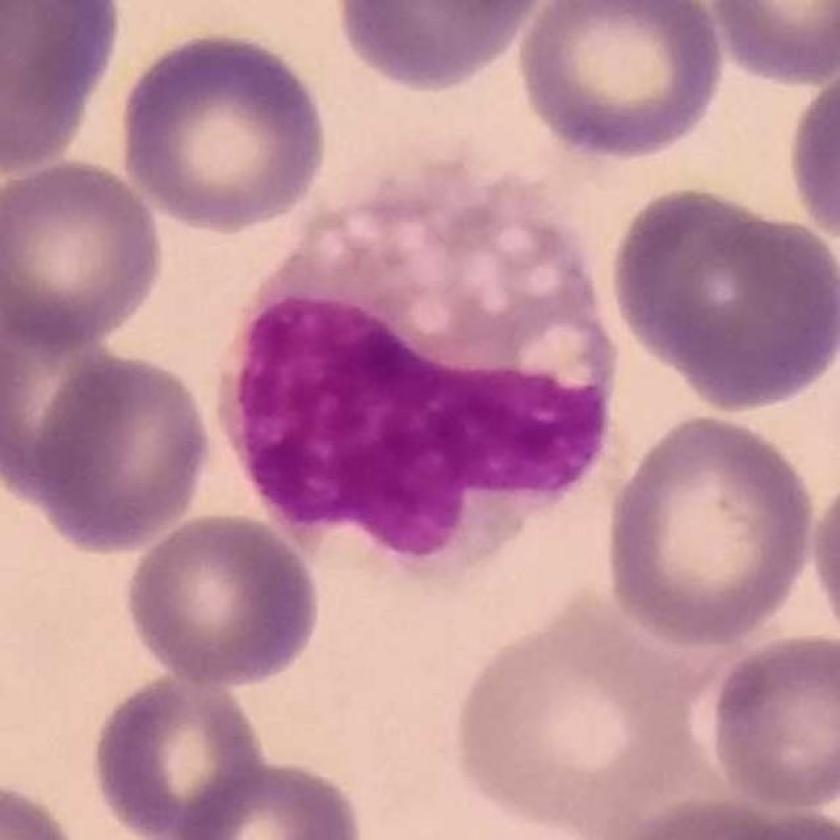monocyte: (213, 161, 620, 604)
